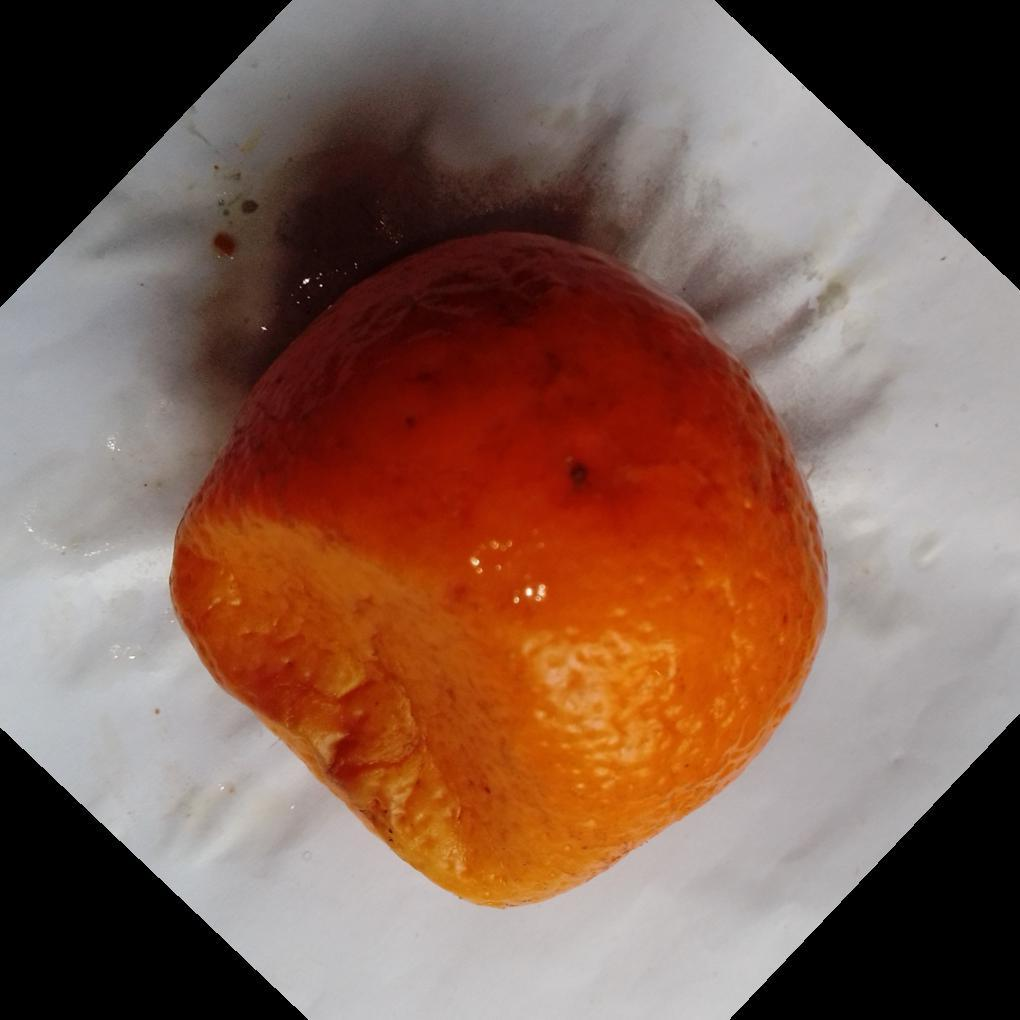FreshOrange: (164, 228, 828, 913)
